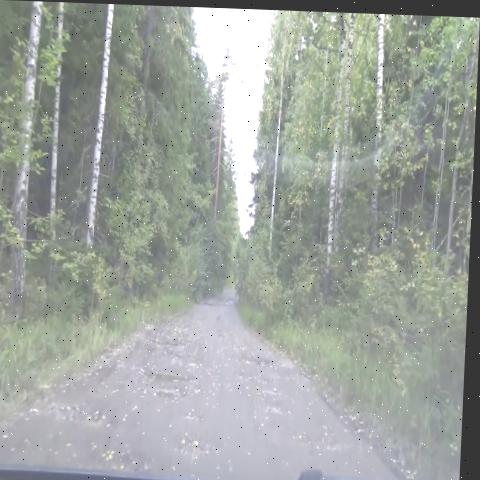pothole: (68, 389, 129, 442), (91, 431, 162, 474), (176, 420, 229, 467), (145, 356, 201, 386), (95, 351, 129, 393), (149, 378, 194, 407), (151, 334, 196, 355), (239, 352, 283, 369), (197, 293, 226, 313)
